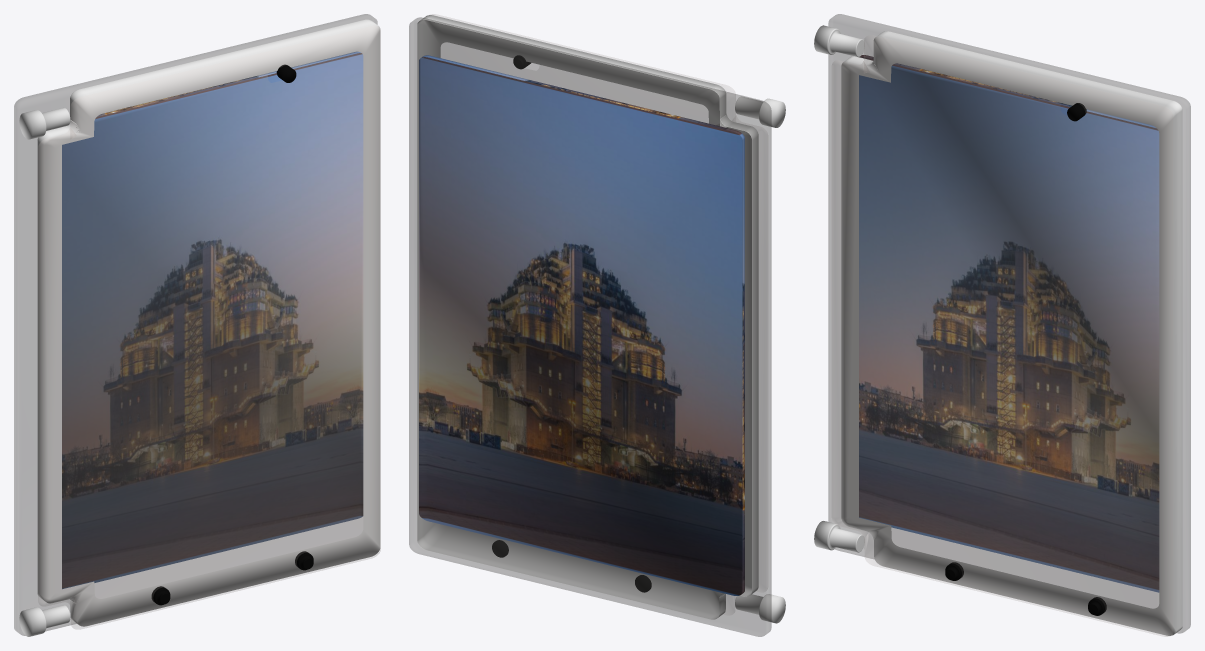
Rendered from a4vertlf8.glb.
3 views of the same model, side by side, from view 1: azimuth 30°, elevation 25°; view 2: azimuth 150°, elevation 25°; view 3: azimuth 330°, elevation 25° (orthographic).
Parts seen in each view (by area): view 1: a4vertoneinittwo; view 2: a4vertoneinittwo; view 3: a4vertoneinittwo.
Boxes of the visible parts, bbox=[...] form: a4vertoneinittwo: bbox=[14, 14, 380, 636]; a4vertoneinittwo: bbox=[409, 14, 785, 636]; a4vertoneinittwo: bbox=[814, 14, 1190, 636].
Bounding box in the file's own units: 0.1964 × 0.2796 × 0.018.
6 materials, 1 textured.
